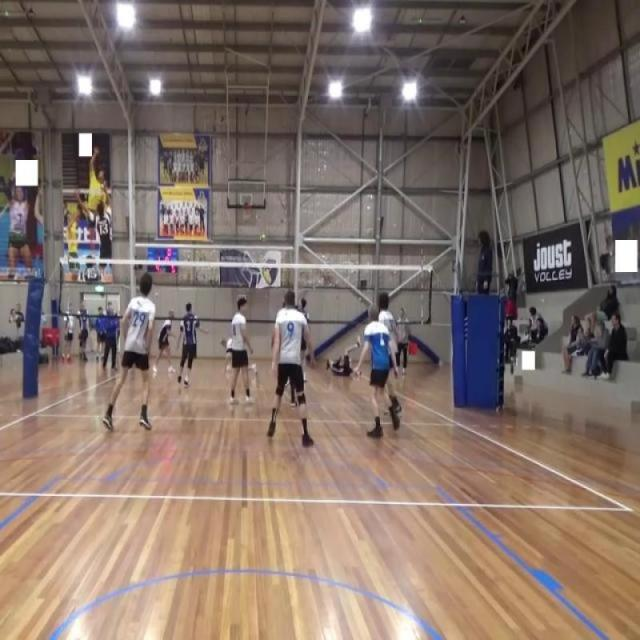volleyball: (259, 233, 267, 244)
